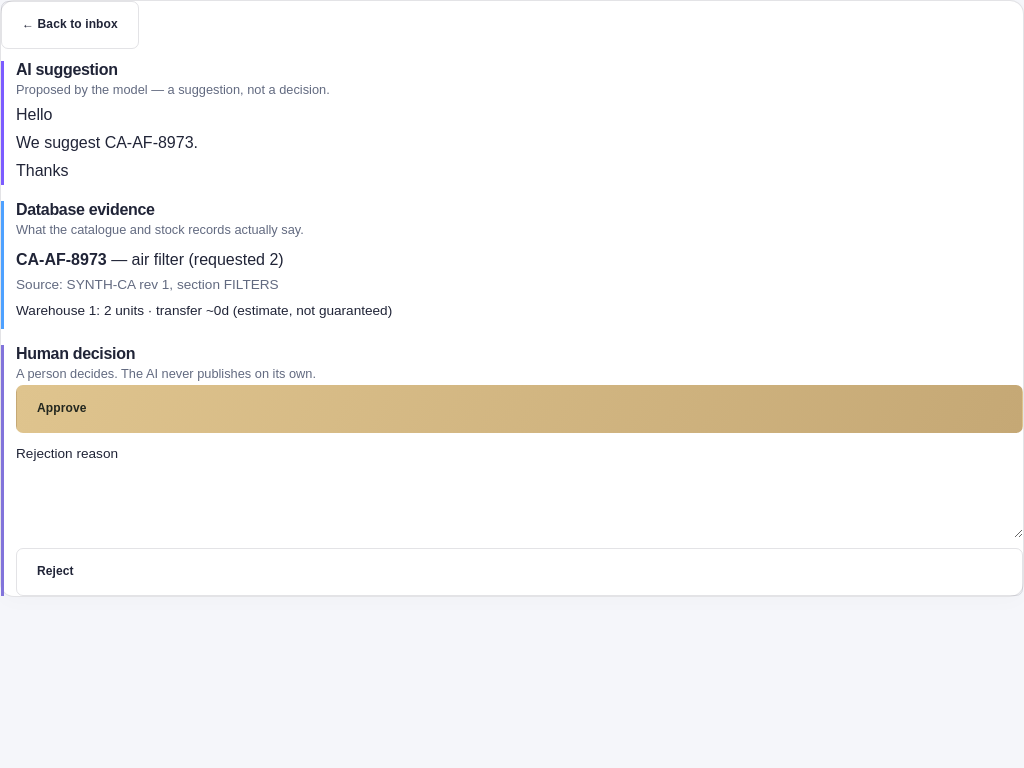
Test: ReviewWorkspaceLive (F03 reviewer) › on a 409 preserves the typed reason and shows 'data changed — reload'
This screenshot has width=1024, height=768.
expect the button with test id "approve" is shown: met, box left=16, top=385, right=1023, bottom=433
Type "my reason" into the text box with test id "reject-reason" at coordinates (520, 504), box left=16, top=469, right=1023, bottom=538
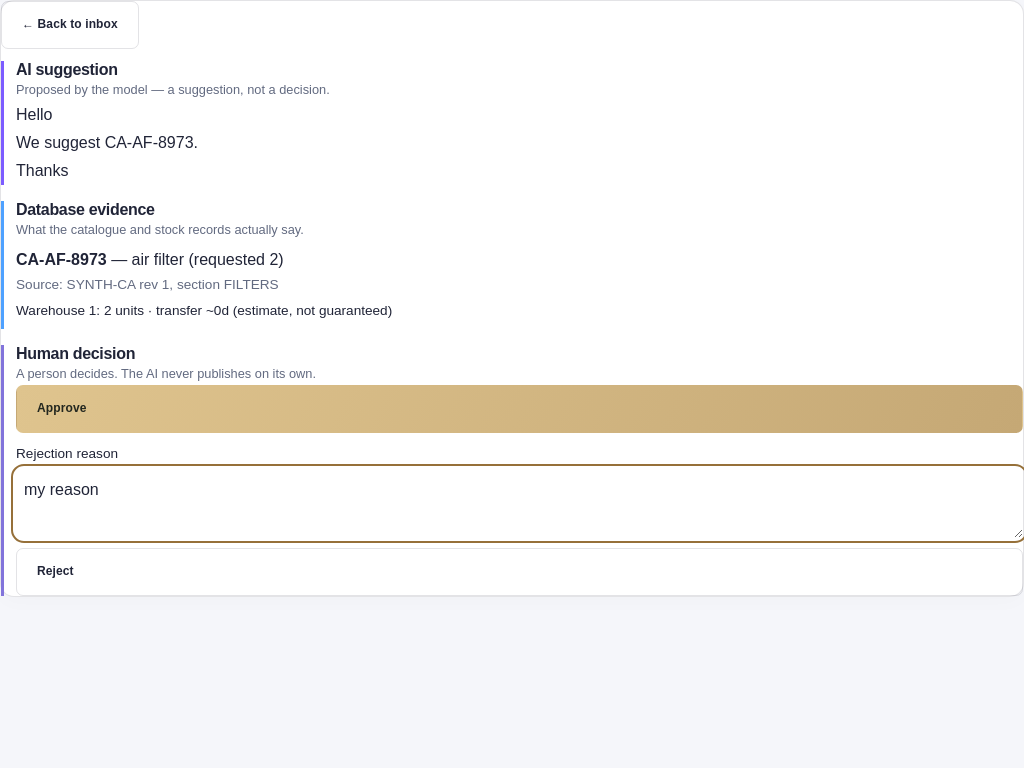
Click the button with test id "approve" at coordinates (62, 408), box left=16, top=385, right=1023, bottom=433
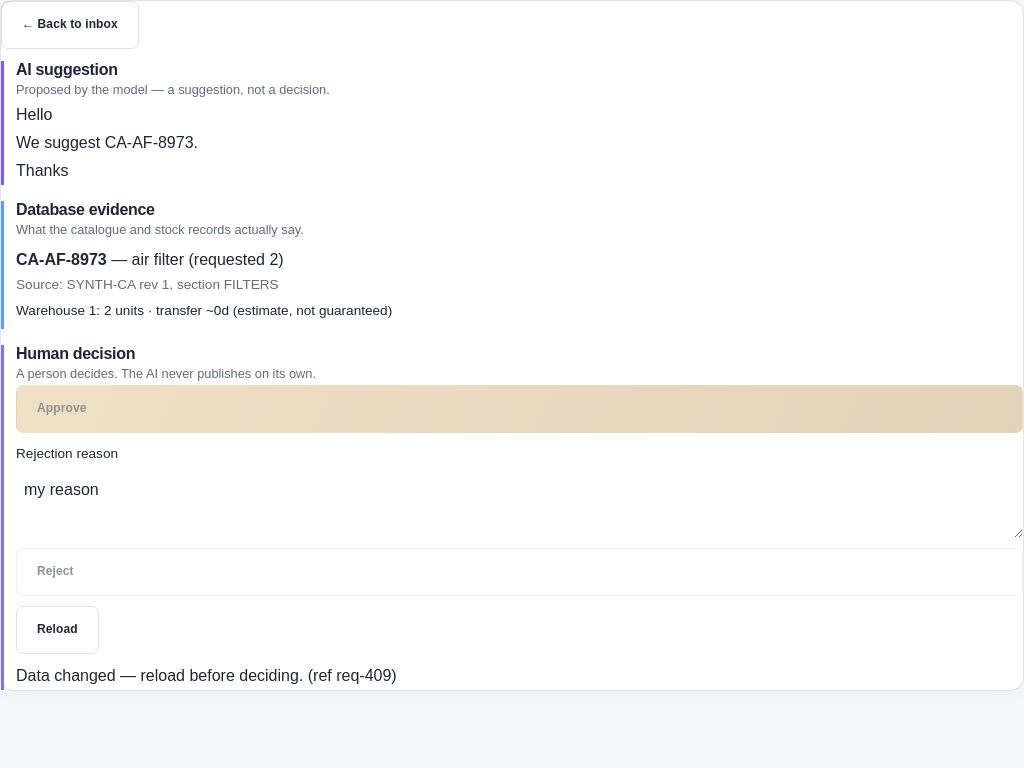
expect the message with test id "decision-error" shows "Data changed": met, box left=16, top=666, right=397, bottom=684
expect the message with test id "decision-error" shows "req-409": met, box left=16, top=666, right=397, bottom=684
expect the button with test id "workspace-reload" is shown: met, box left=16, top=606, right=99, bottom=654
